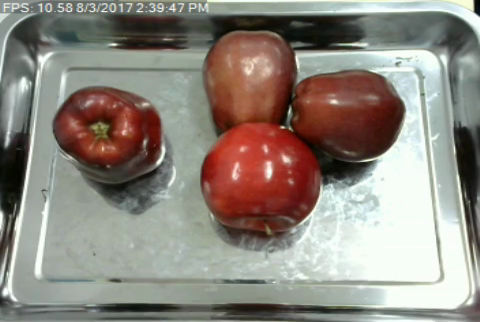Apple: (198, 120, 325, 236), (50, 84, 166, 187), (287, 66, 407, 165), (198, 28, 299, 136)
